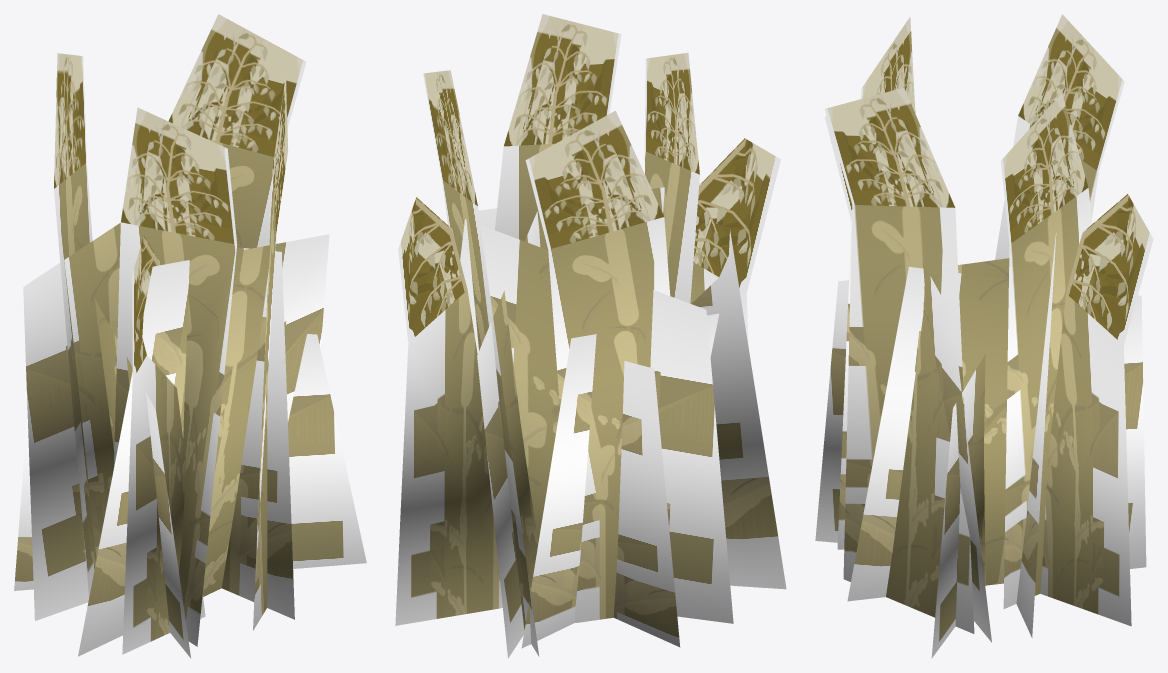
The model's file is PT_Oat_01_cut_up.fbx.
The picture shows the model from 3 angles, left to right: view 1: azimuth 30°, elevation 25°; view 2: azimuth 150°, elevation 25°; view 3: azimuth 270°, elevation 25°; orthographic projection. The views are drawn at different scales.
Parts seen in each view (by area): view 1: PT_Oat_01_cut_up_LOD0; view 2: PT_Oat_01_cut_up_LOD0; view 3: PT_Oat_01_cut_up_LOD0.
Boxes of the visible parts, left/top/right/bottom form: PT_Oat_01_cut_up_LOD0: left=14, top=14, right=366, bottom=658; PT_Oat_01_cut_up_LOD0: left=395, top=14, right=786, bottom=658; PT_Oat_01_cut_up_LOD0: left=815, top=14, right=1153, bottom=658.
Size of what is drawn, in the model's own units: 77.89 by 122 by 71.45.
